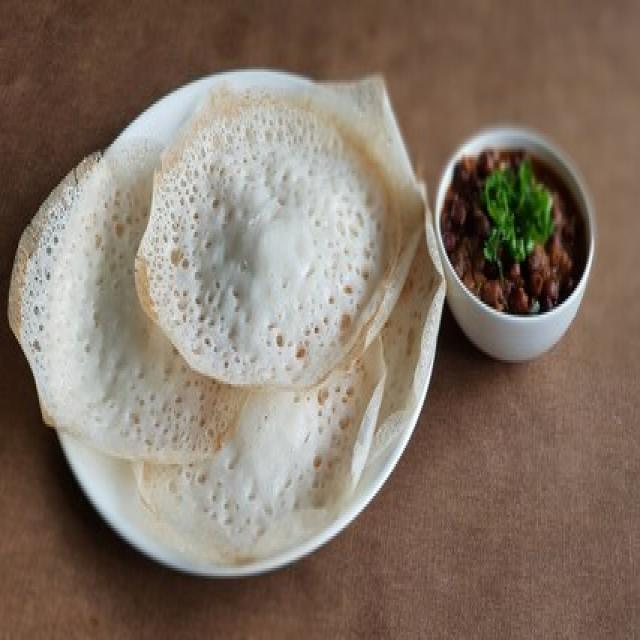AAPAM: (10, 77, 442, 563)
CURRY: (441, 149, 579, 309)
